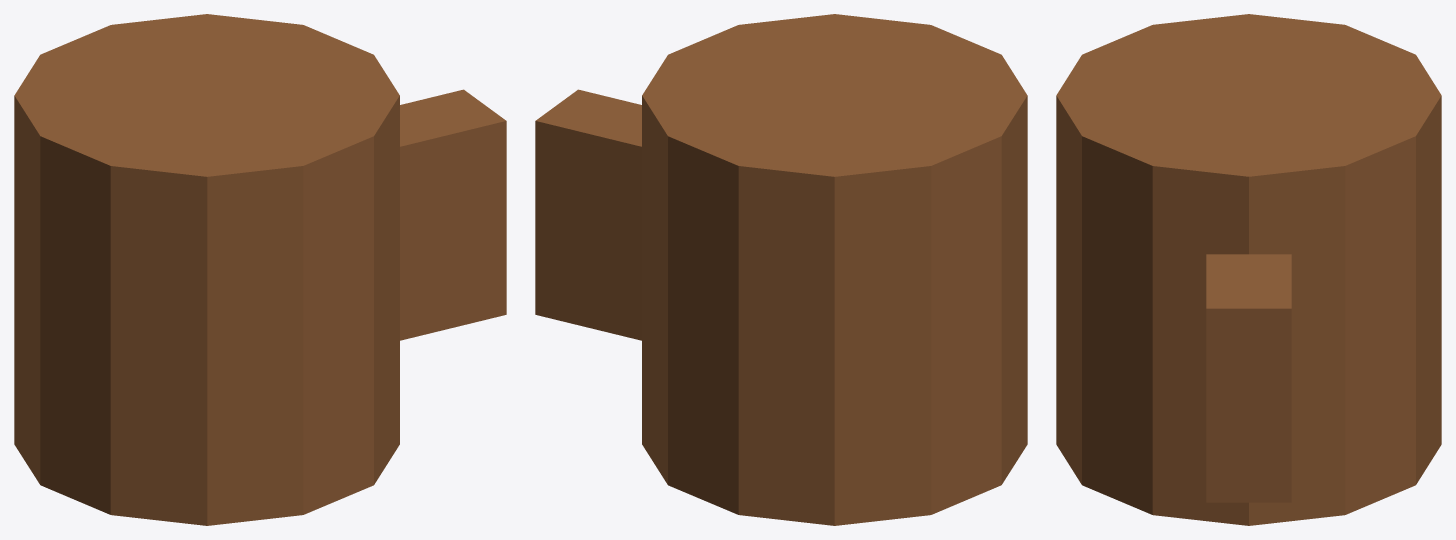
The model's file is wooden_mug.obj.
3 views of the same model, side by side, from view 1: azimuth 30°, elevation 25°; view 2: azimuth 150°, elevation 25°; view 3: azimuth 270°, elevation 25° (orthographic).
Parts seen in each view (by area): view 1: wooden_mug; view 2: wooden_mug; view 3: wooden_mug.
Boxes of the visible parts, bbox=[...] form: wooden_mug: bbox=[14, 14, 506, 525]; wooden_mug: bbox=[535, 14, 1027, 525]; wooden_mug: bbox=[1056, 14, 1441, 525].
Size of the model in its own units: 0.12 by 0.09 by 0.09.
